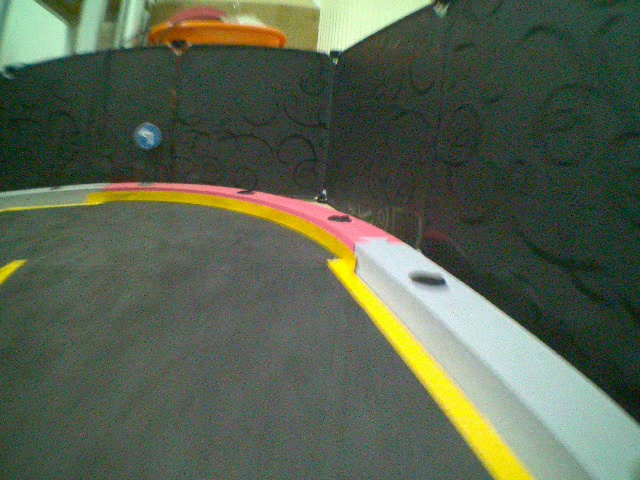turn: (135, 121, 164, 153)
